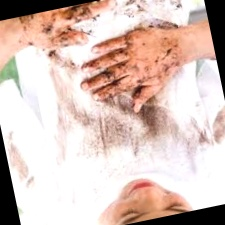earth: (90, 116, 129, 149), (138, 106, 171, 137), (8, 145, 31, 180), (57, 79, 75, 113), (104, 97, 130, 116), (211, 113, 225, 142), (123, 0, 148, 16), (168, 0, 186, 8), (48, 51, 59, 63)
